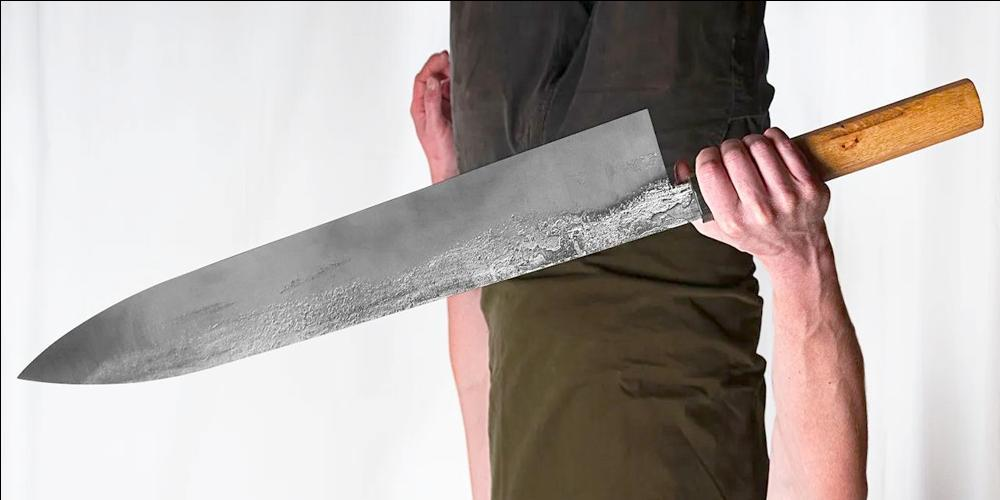melee: (16, 76, 990, 388)
